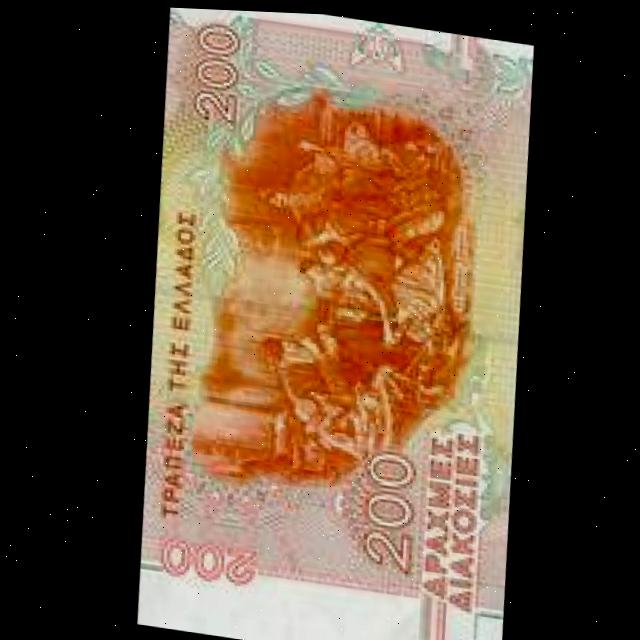banknote: (103, 4, 560, 640), (336, 425, 420, 576), (177, 11, 260, 136), (142, 524, 259, 588)
